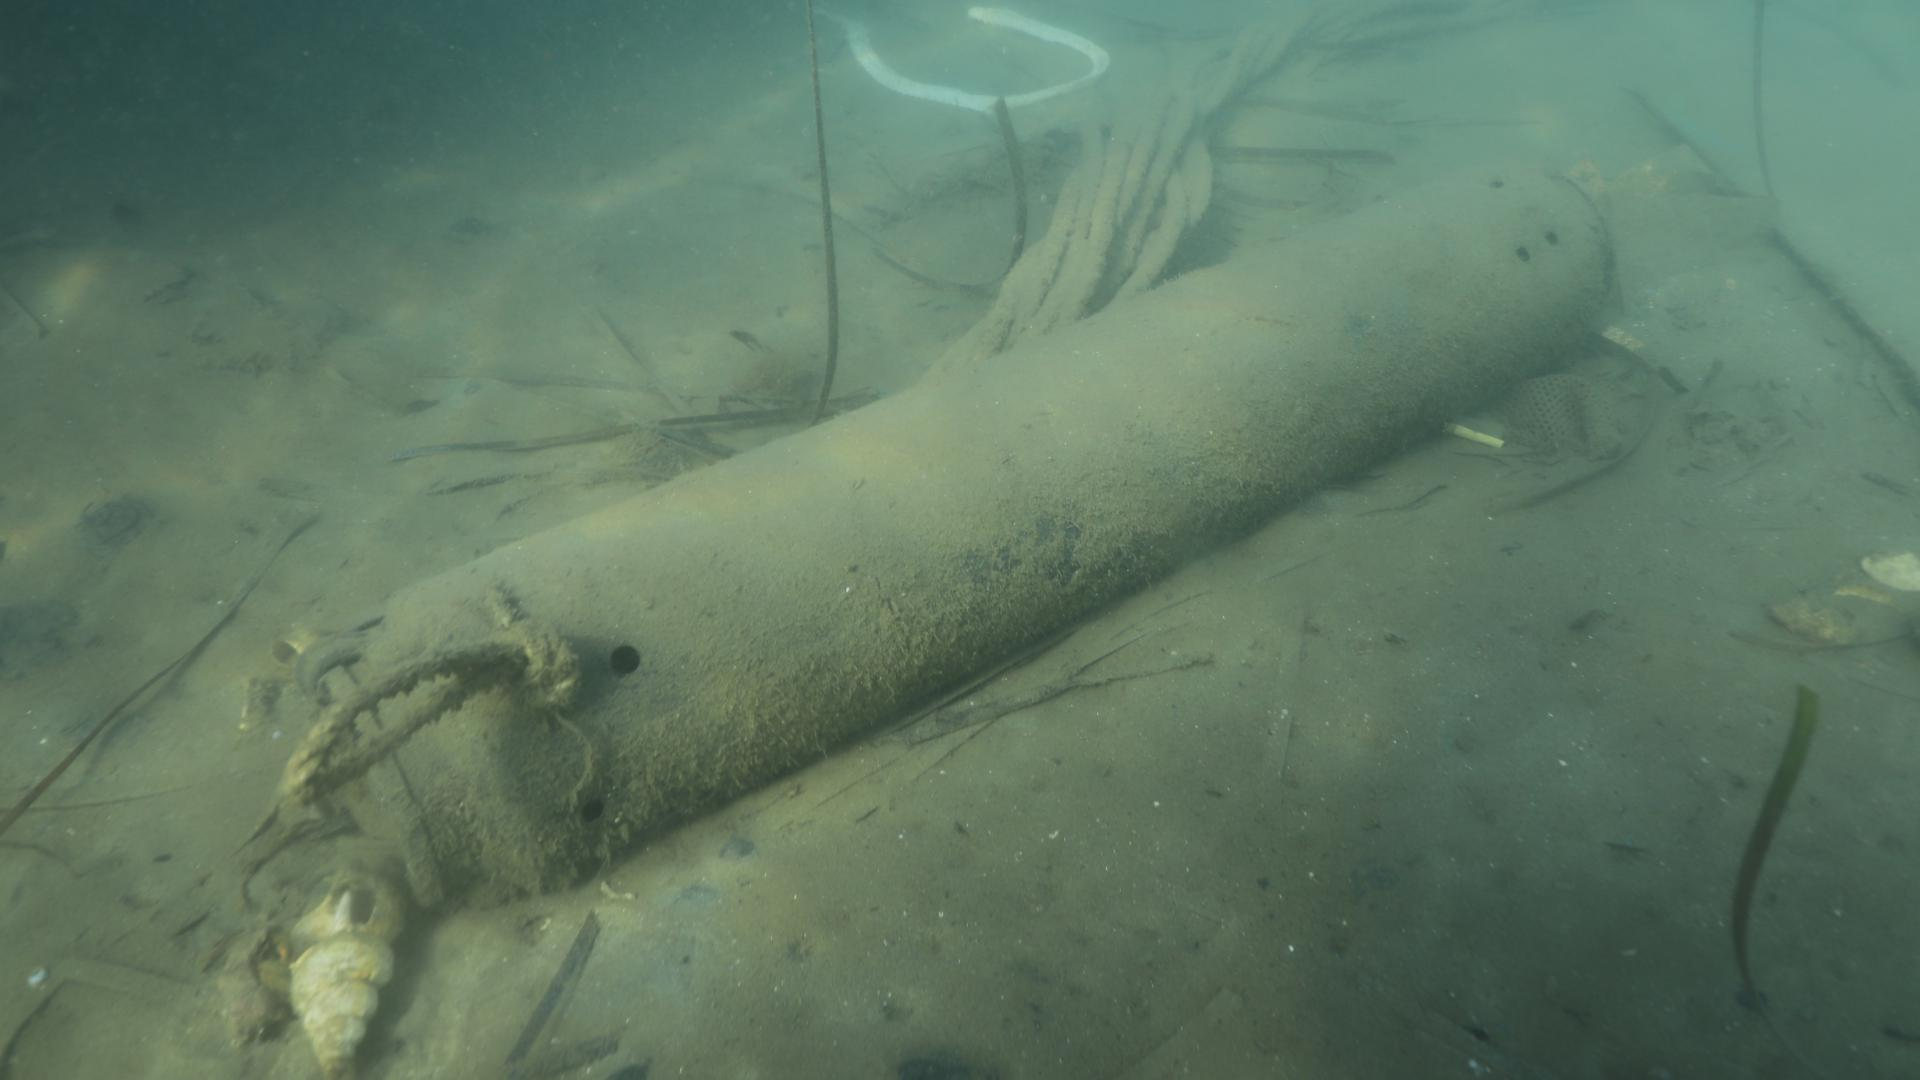bundle of ropes: (920, 0, 1514, 382), (280, 612, 593, 810)
eel fish trap: (310, 167, 1615, 916)
